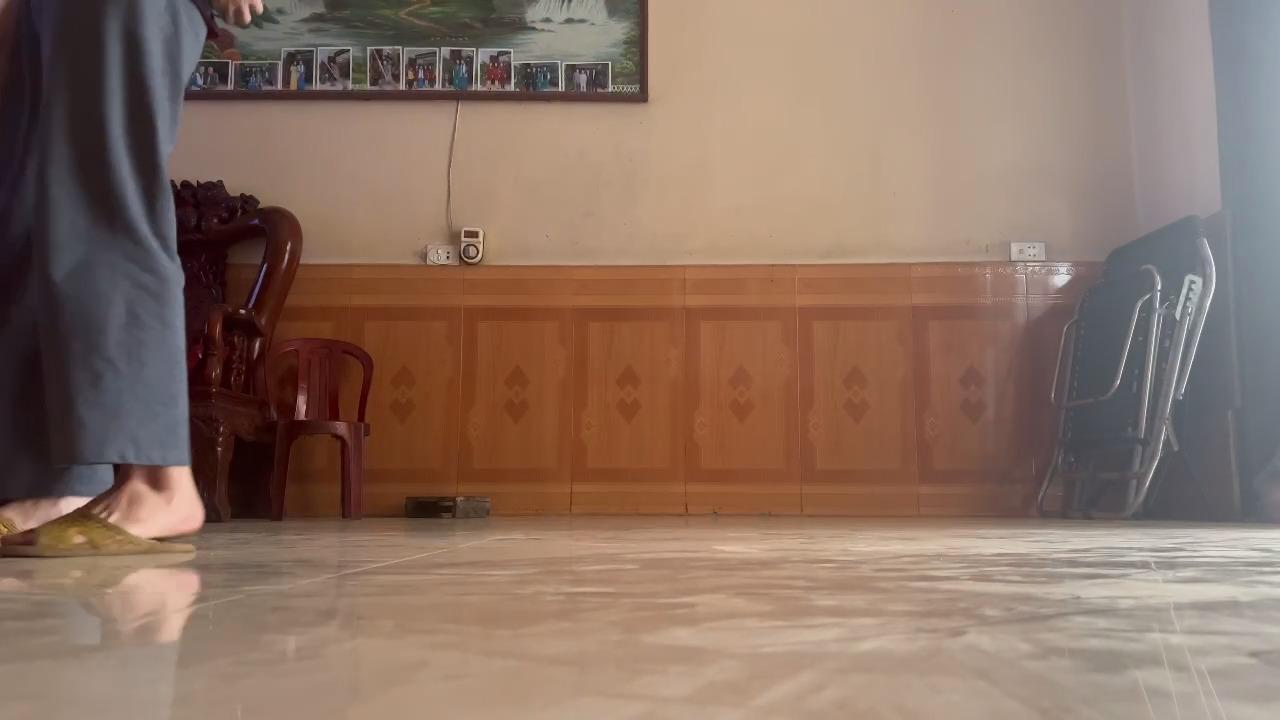no-boot: (0, 487, 215, 566)
